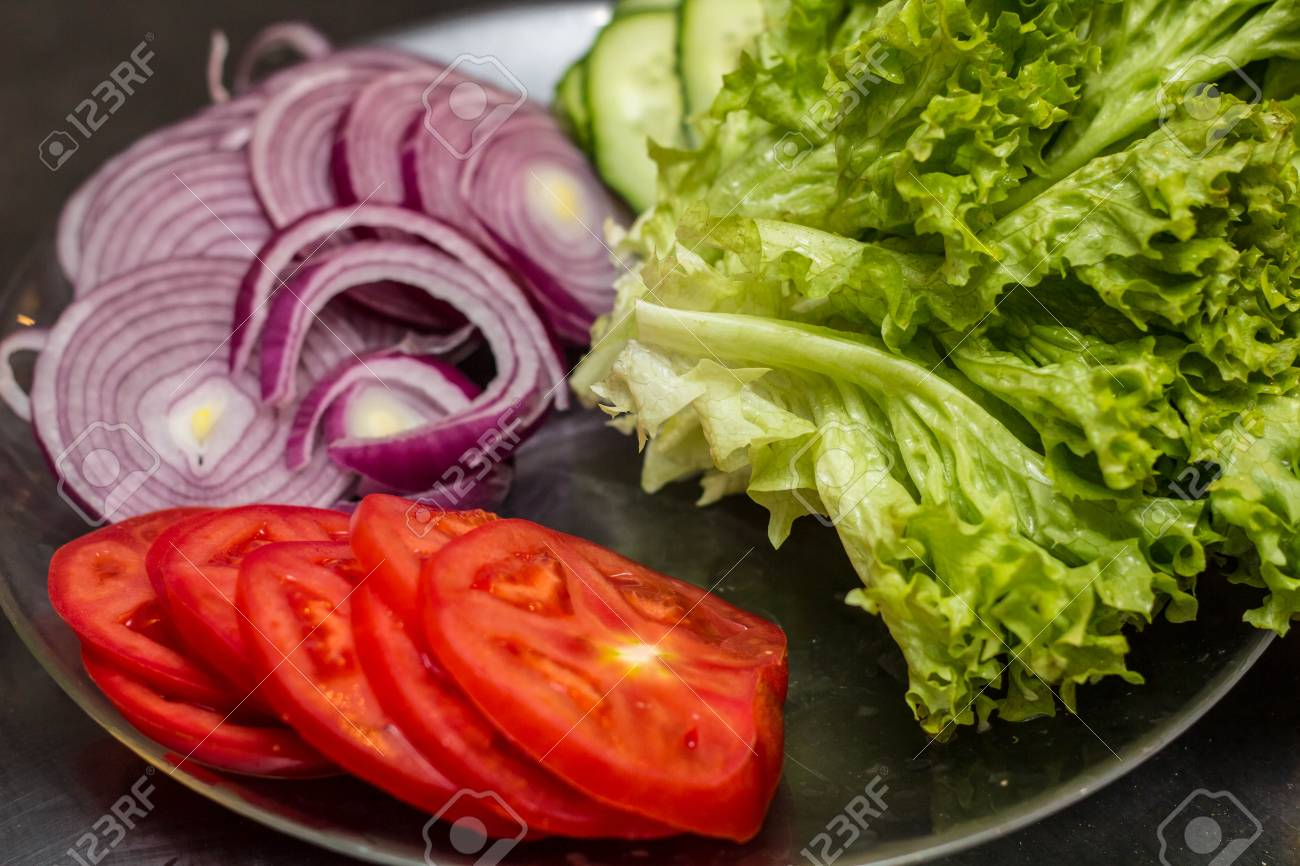chopped lettuce: (614, 8, 1296, 700)
